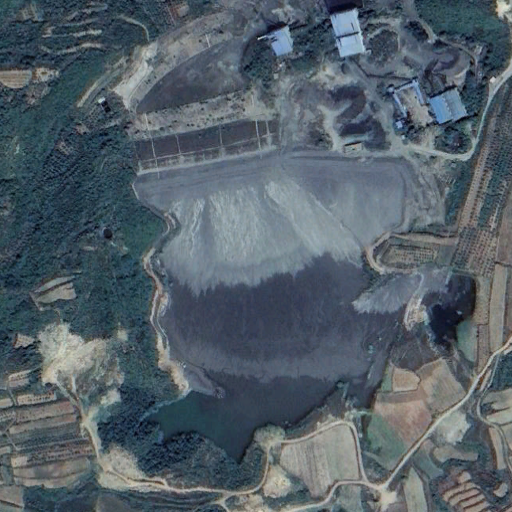tp: (133, 116, 425, 468)
